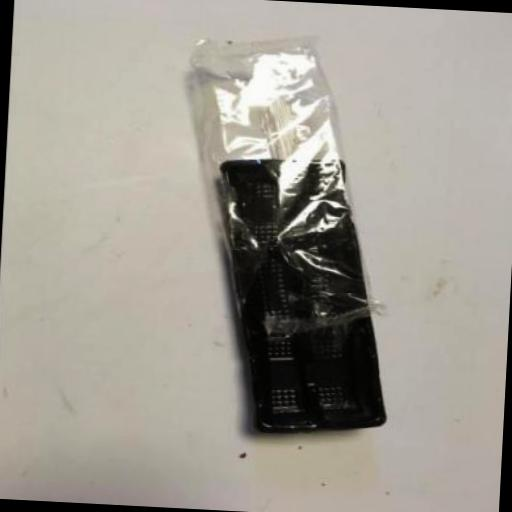plastic: (174, 28, 397, 346), (206, 153, 396, 435)
